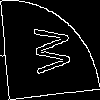W: (25, 24, 71, 77)
